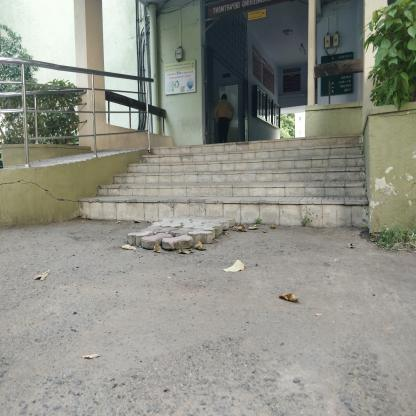stairs: (182, 145, 347, 233)
